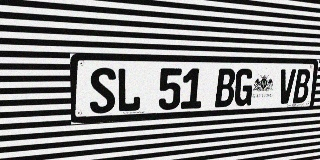1: (181, 68, 203, 109)
5: (159, 68, 182, 110)
B: (215, 69, 236, 107), (293, 69, 311, 103)
G: (234, 69, 254, 106)
L: (116, 68, 141, 112)
S: (89, 68, 116, 114)
V: (277, 69, 296, 104)
